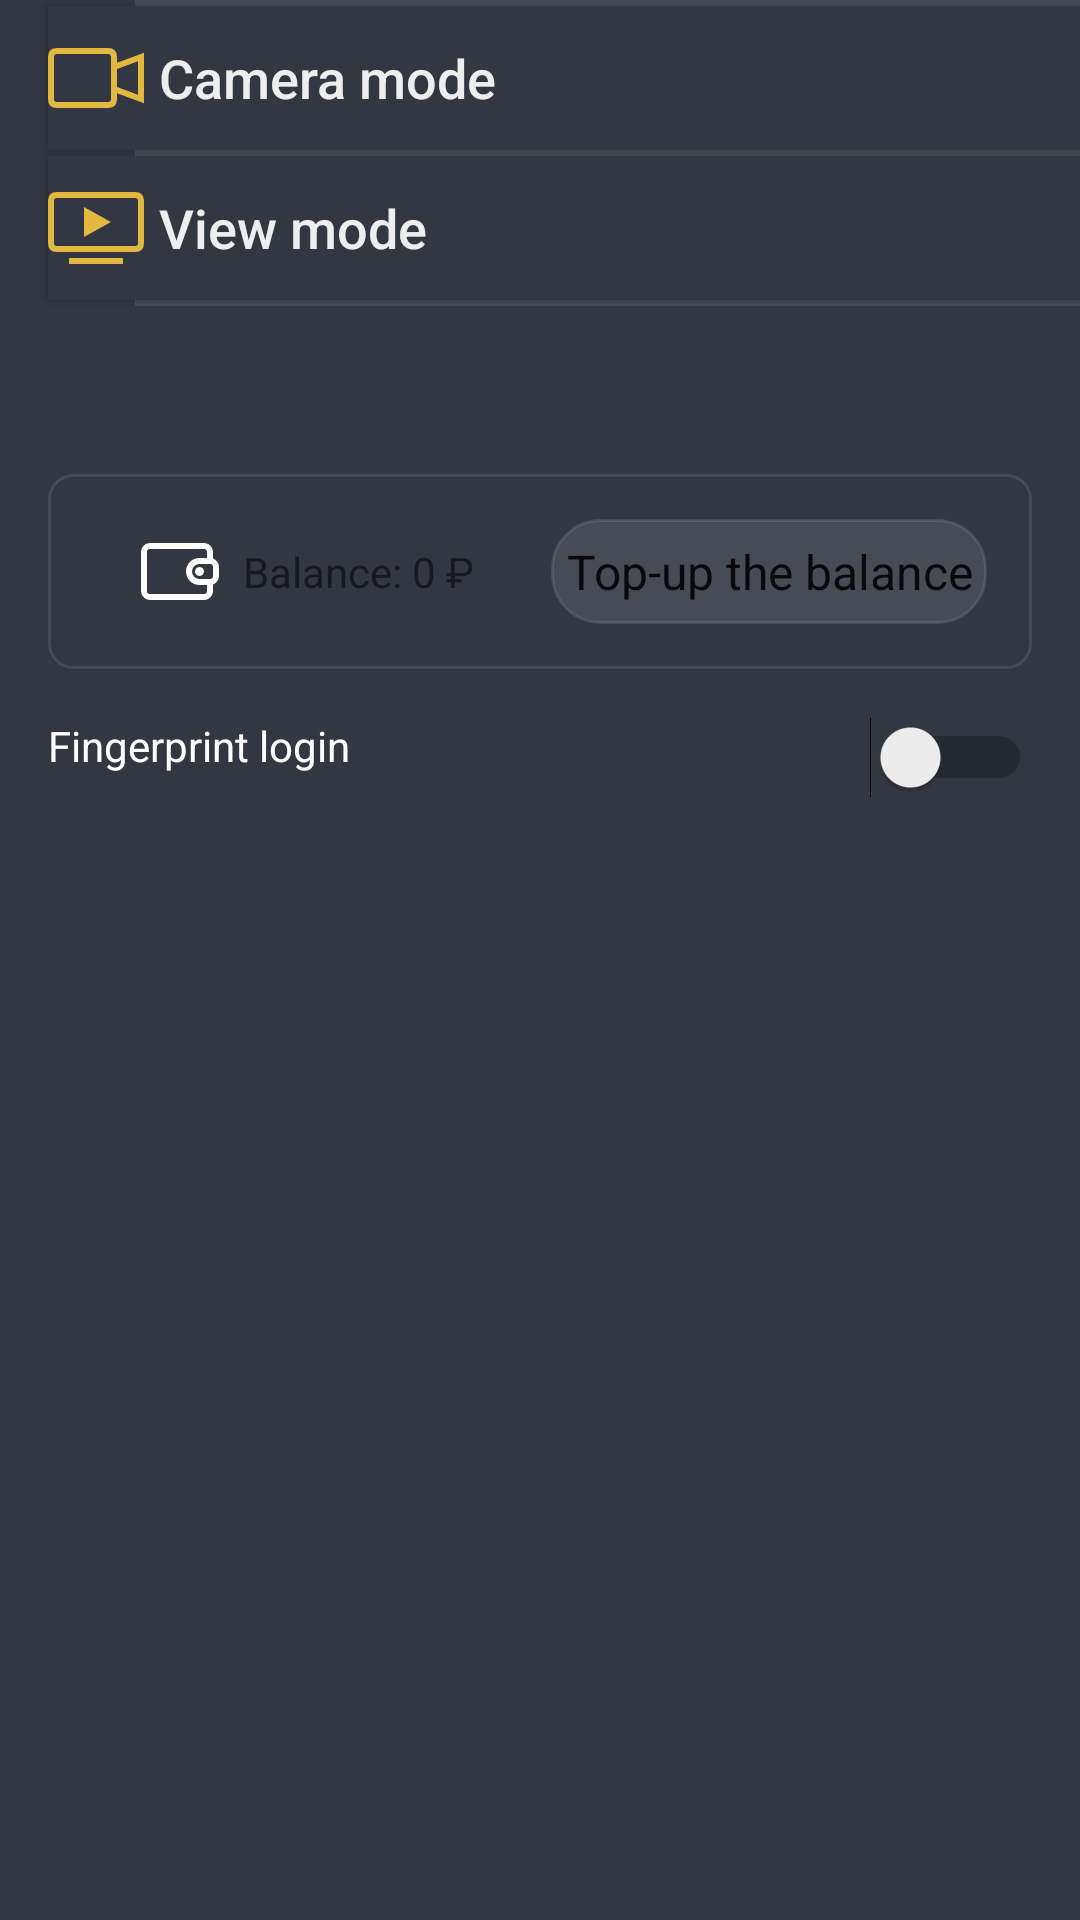

Icons on this 1080w x 1920h Android screen, each with the point to tap as (x,y):
wallet: (180,571)
